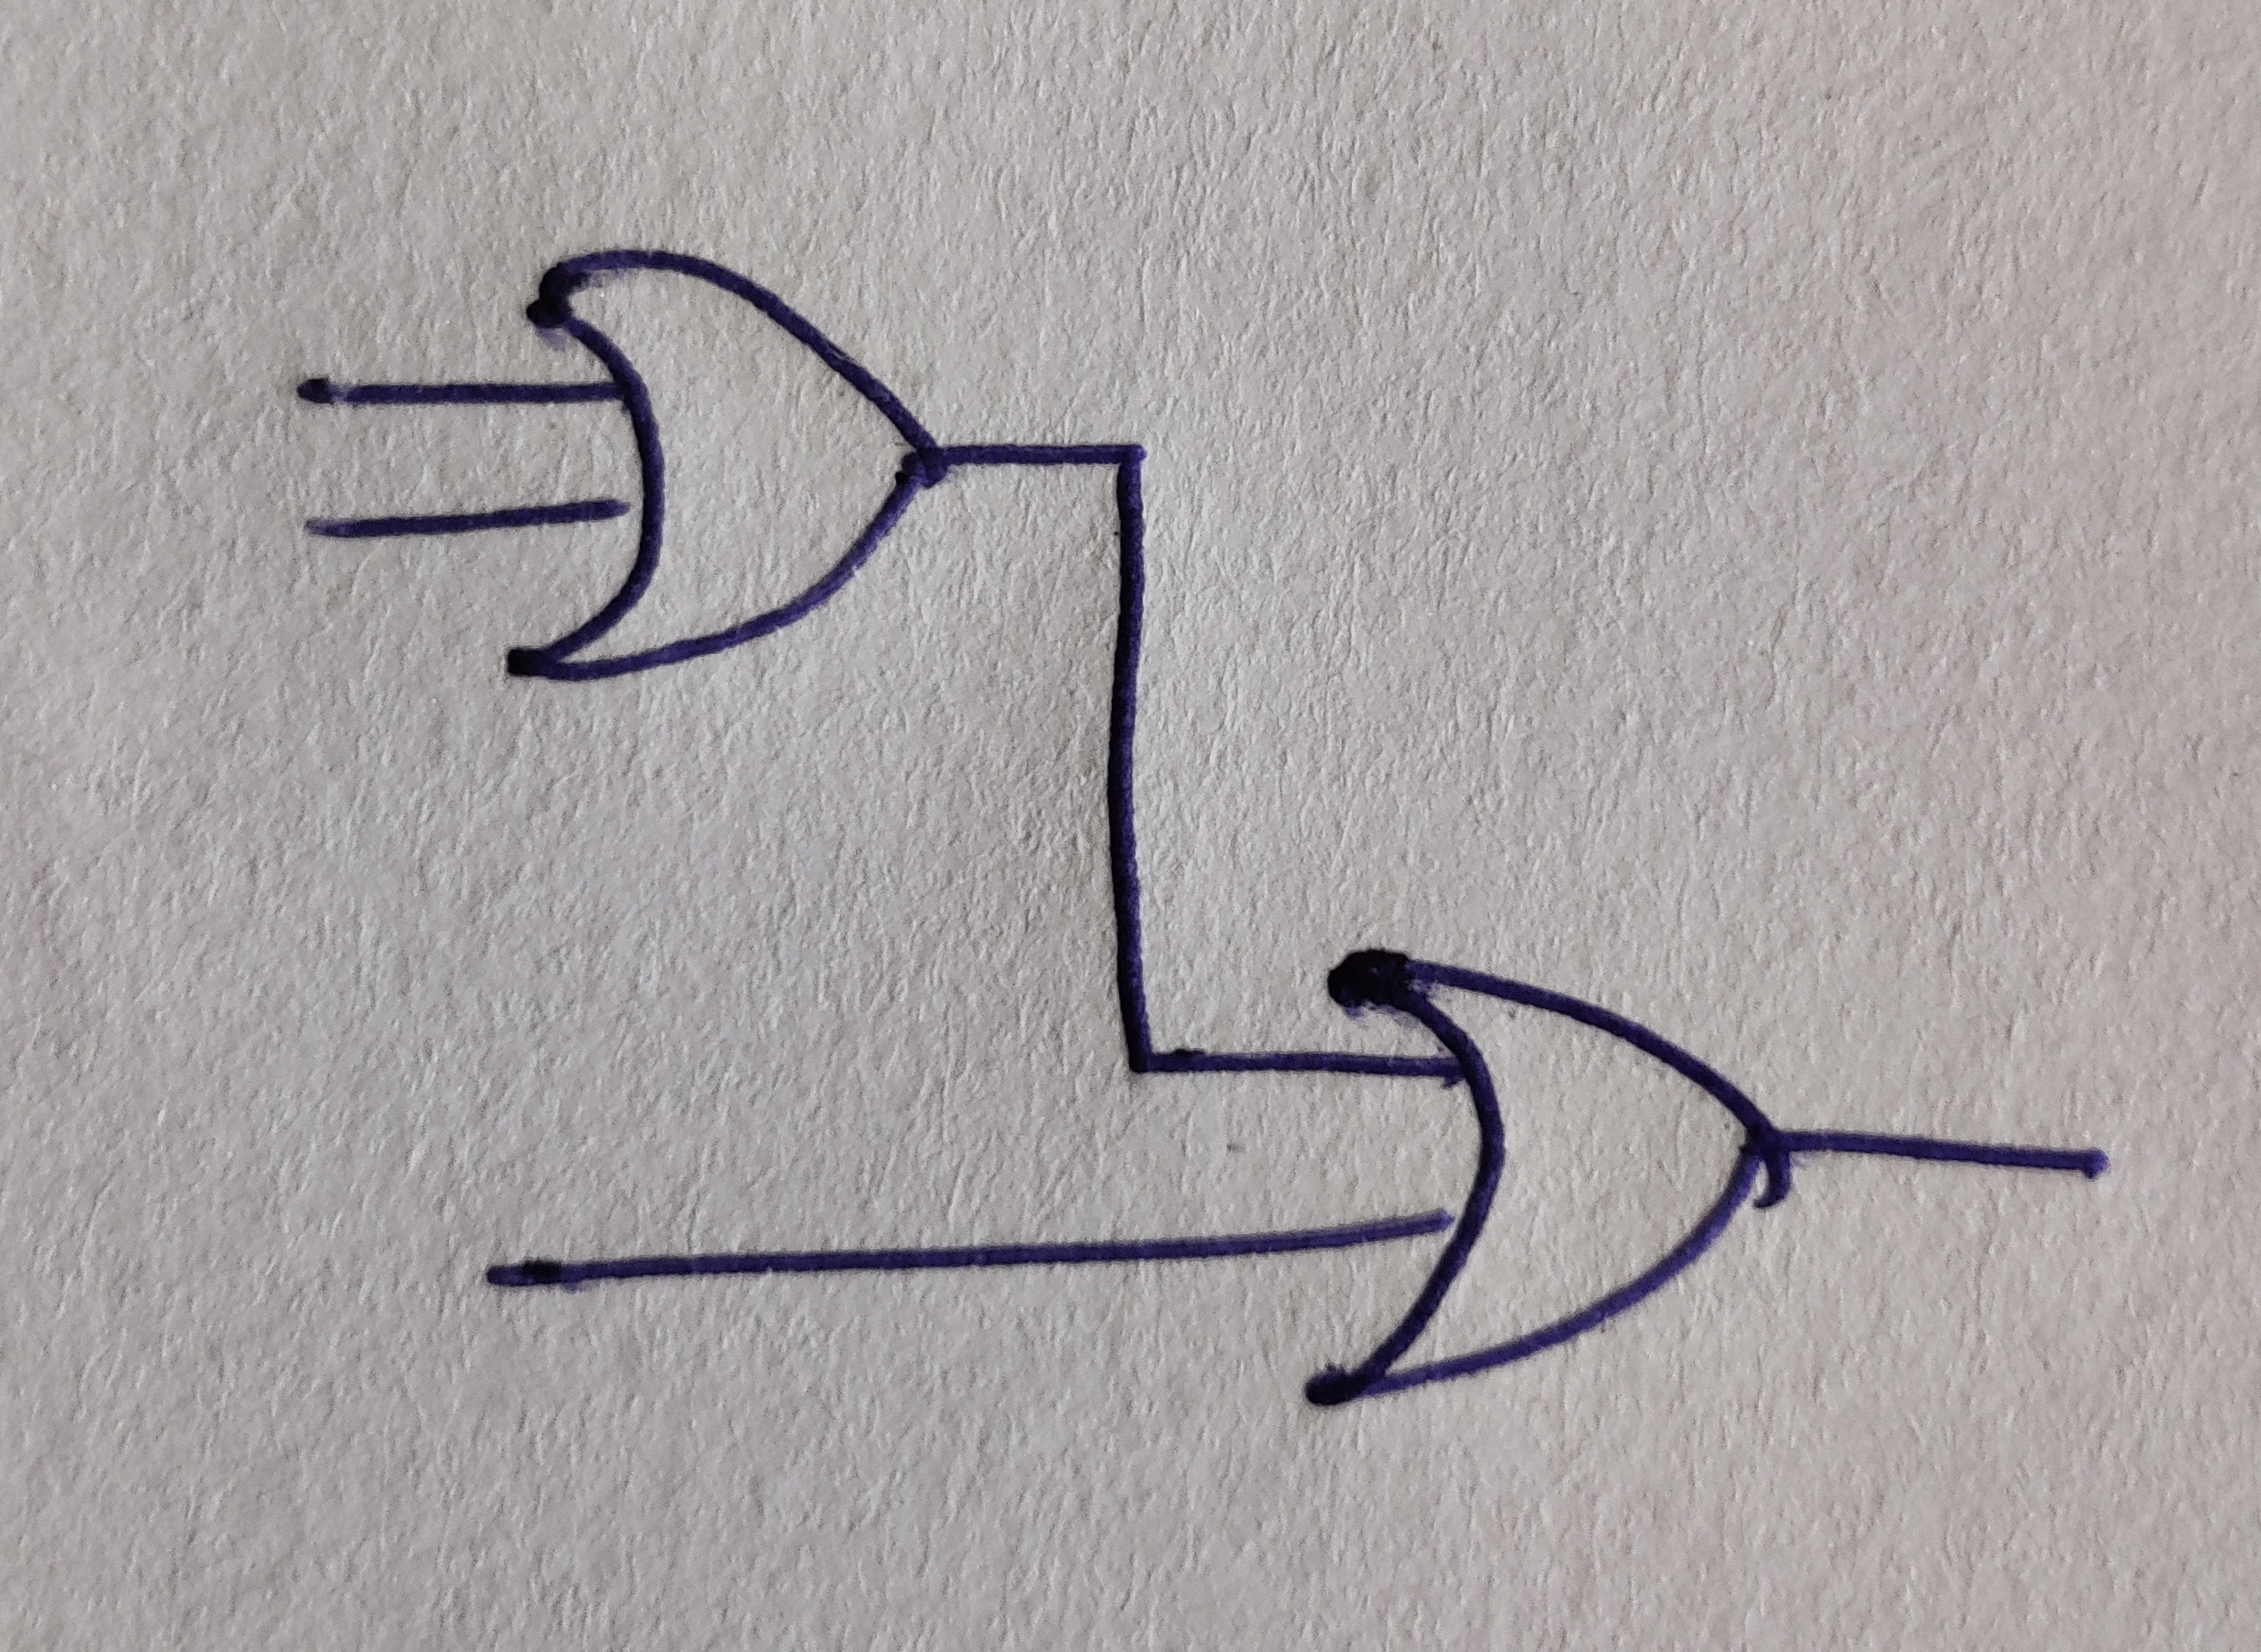or: (1304, 946, 1792, 1408), (506, 249, 944, 681)
